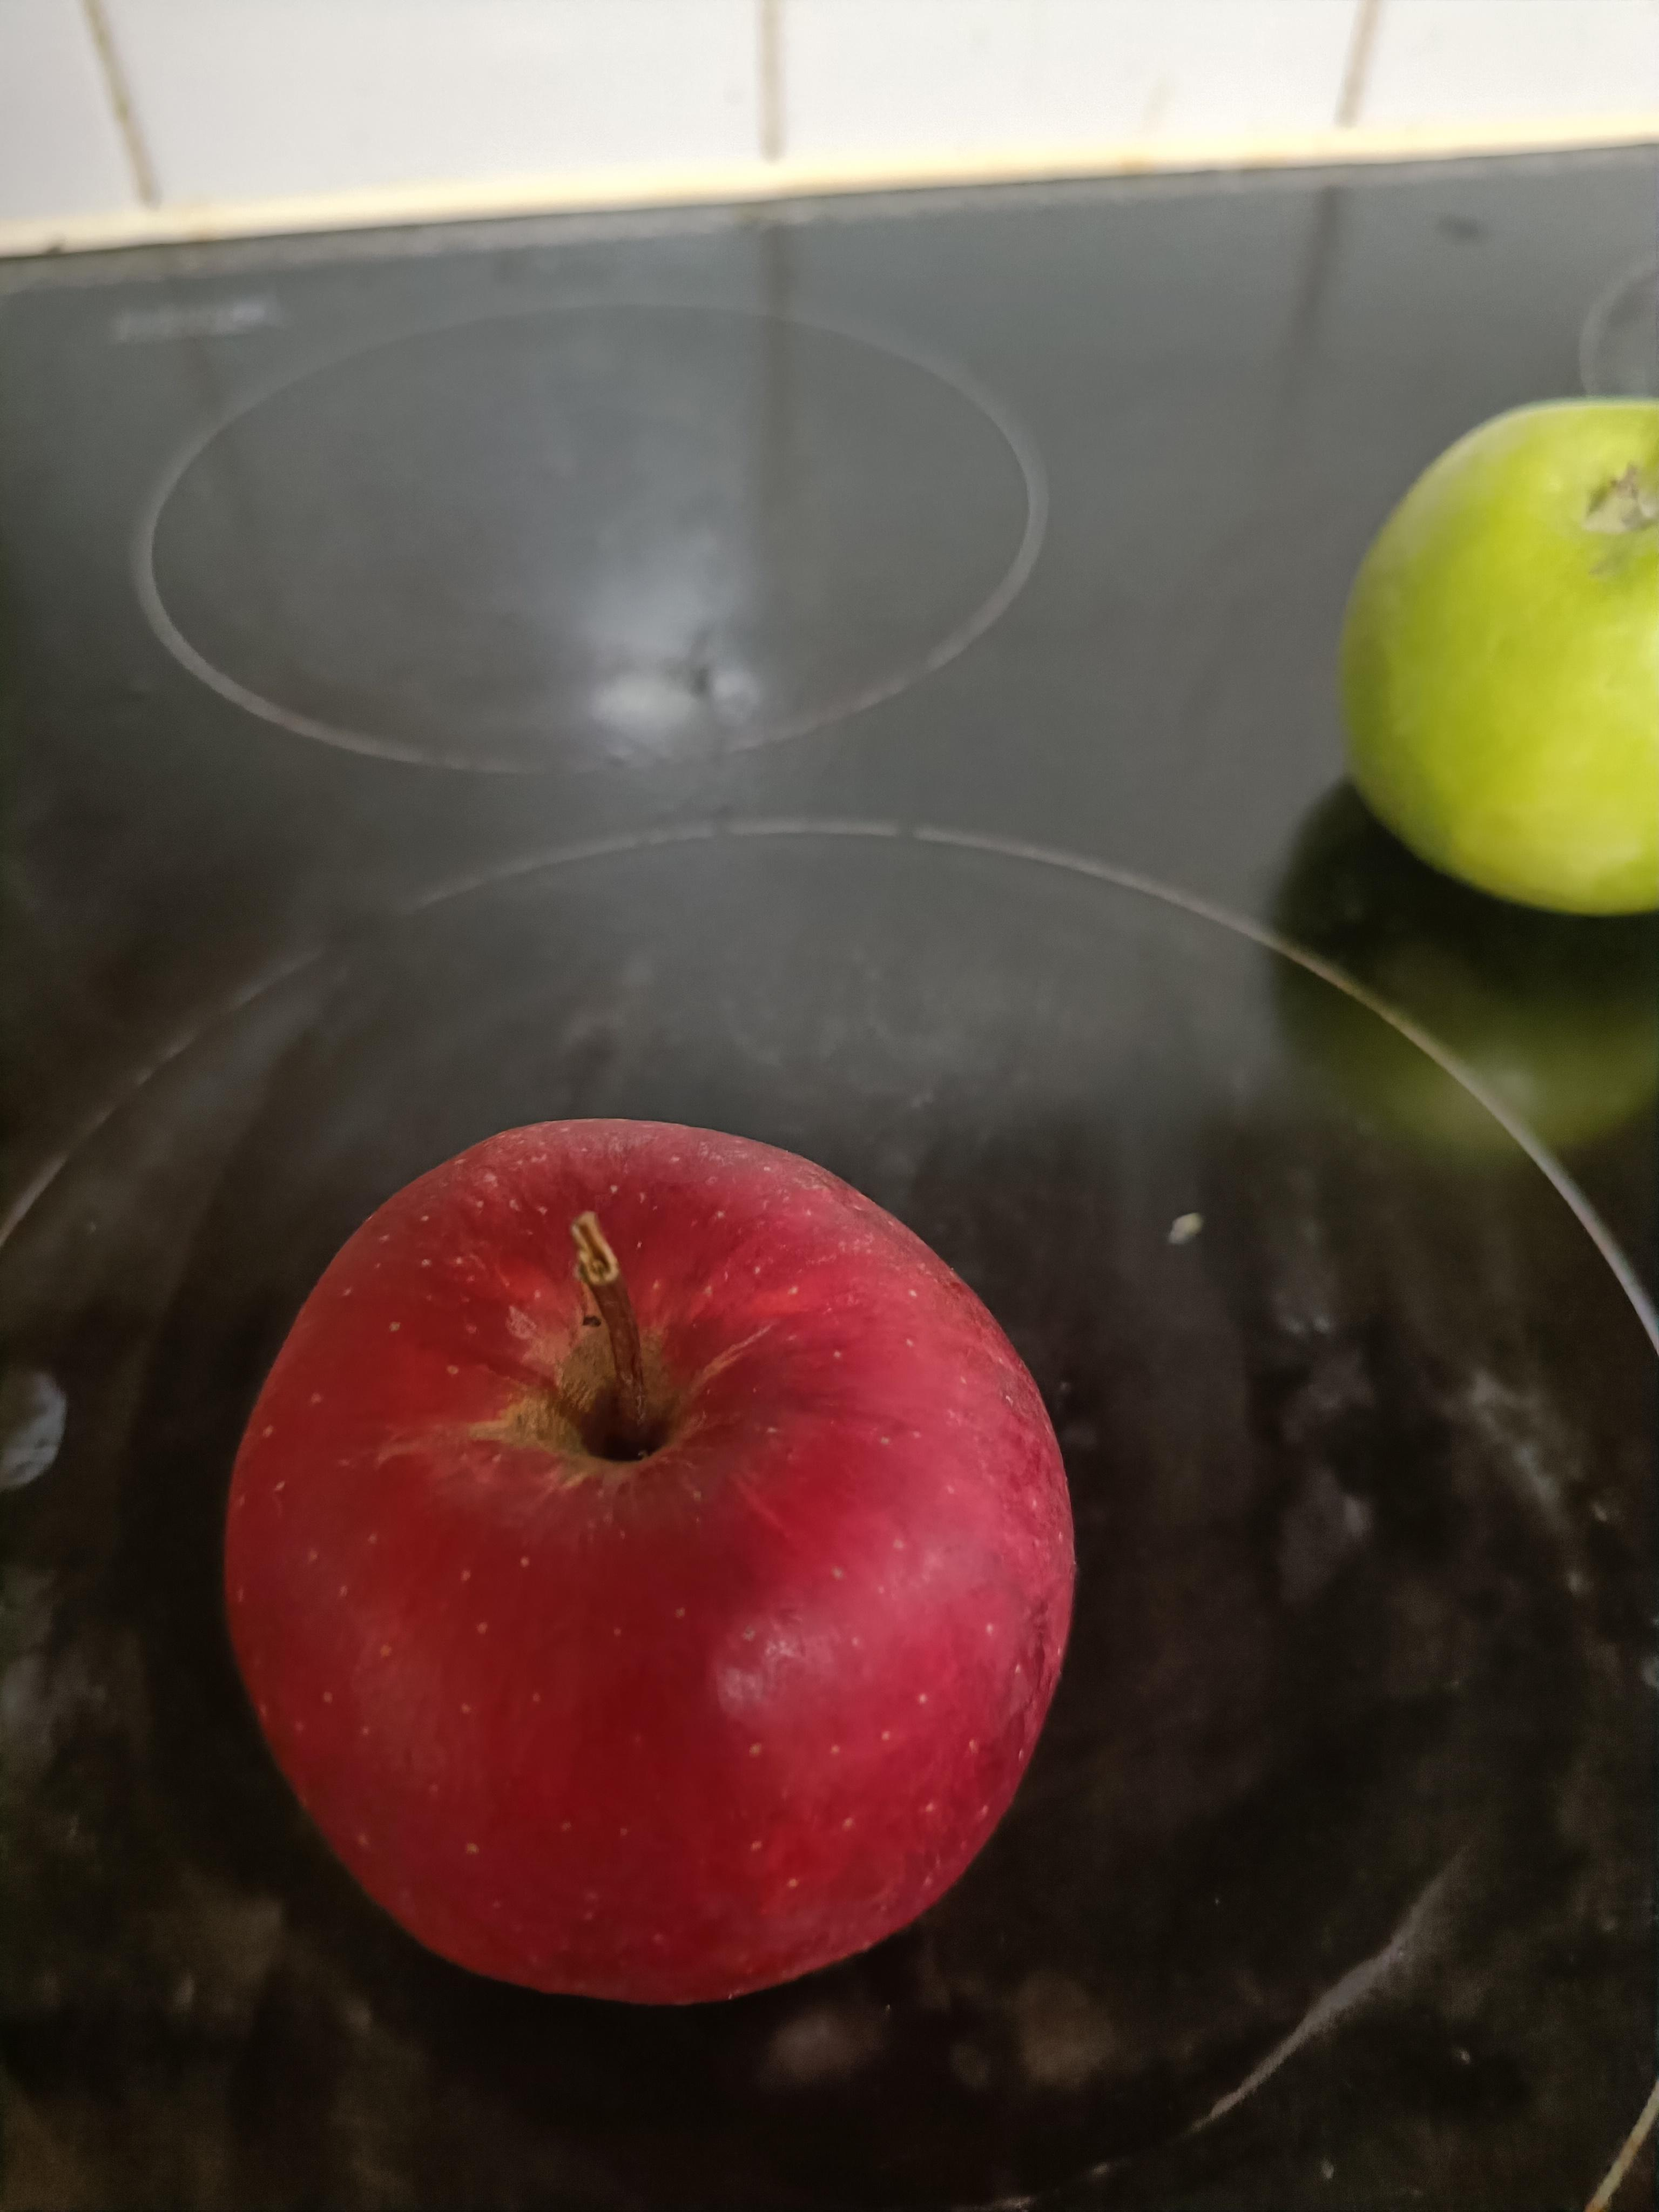Apple: (247, 1078, 1089, 2017)
